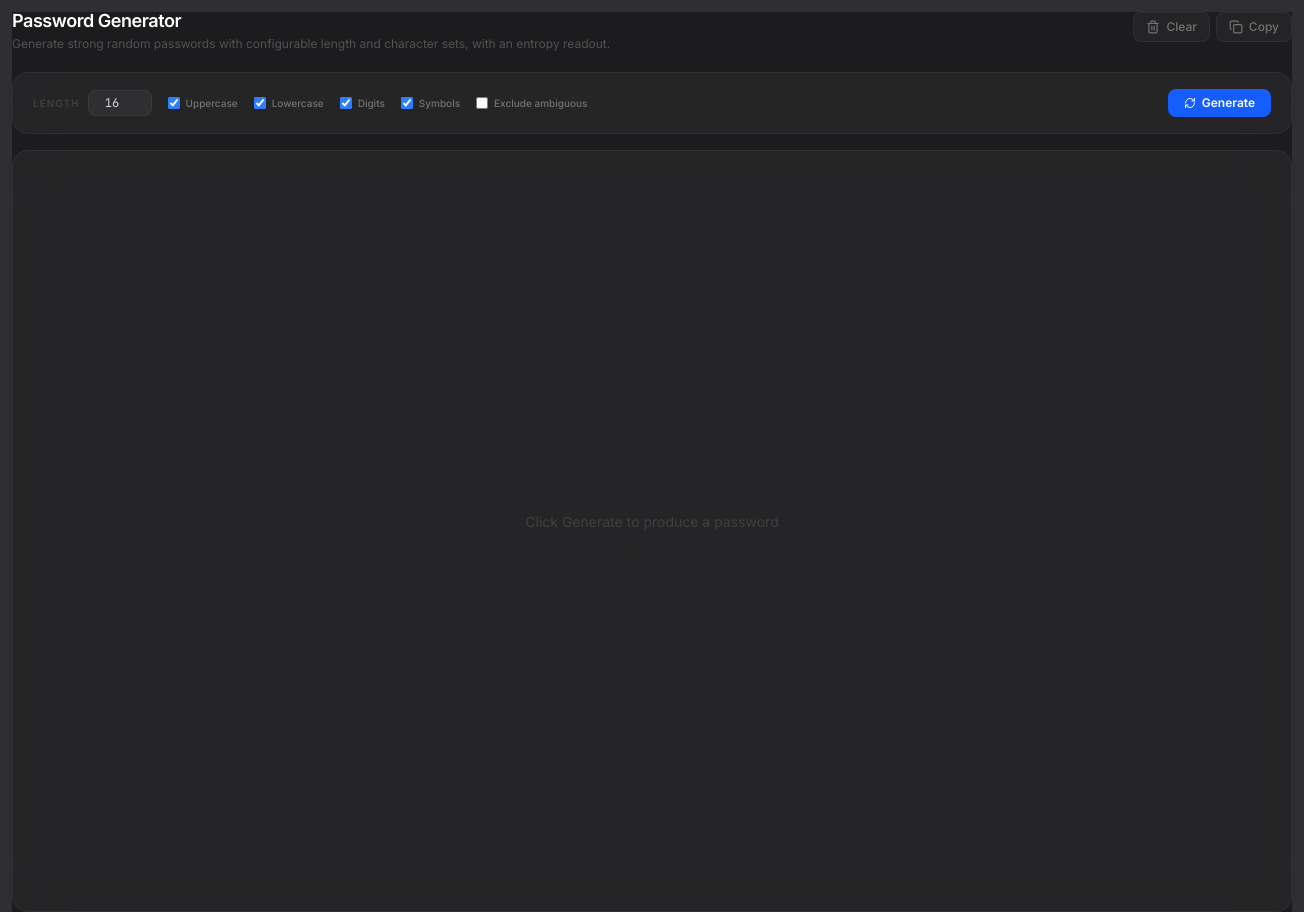
Test: PasswordGenerator › shows an entropy and strength readout after generation
The image size is (1304, 912).
Click the button "Generate": (1219, 103) 1168,89 -> 1271,117
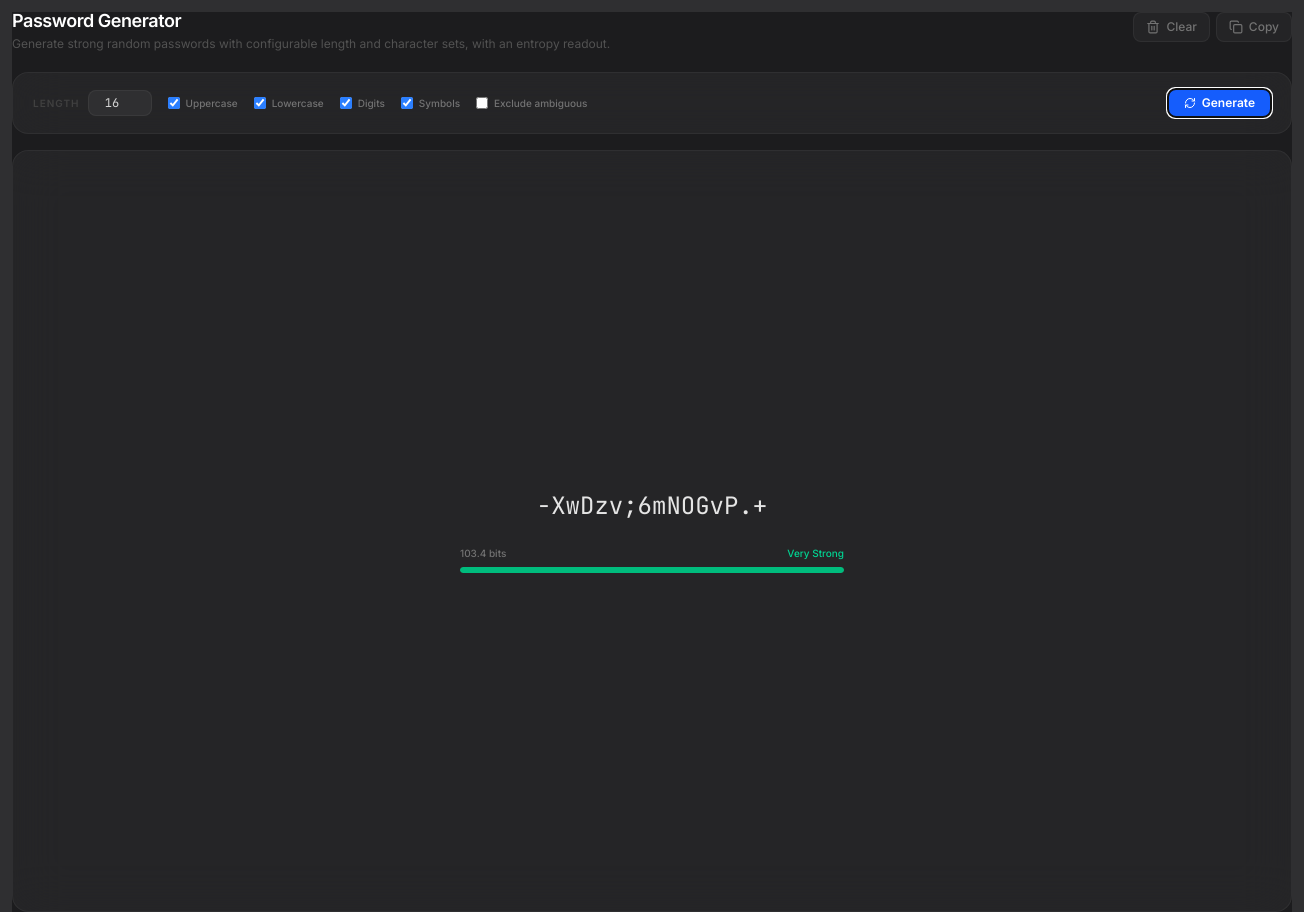
Now the text "103.4 bits" is shown, box 460,546 -> 506,560
